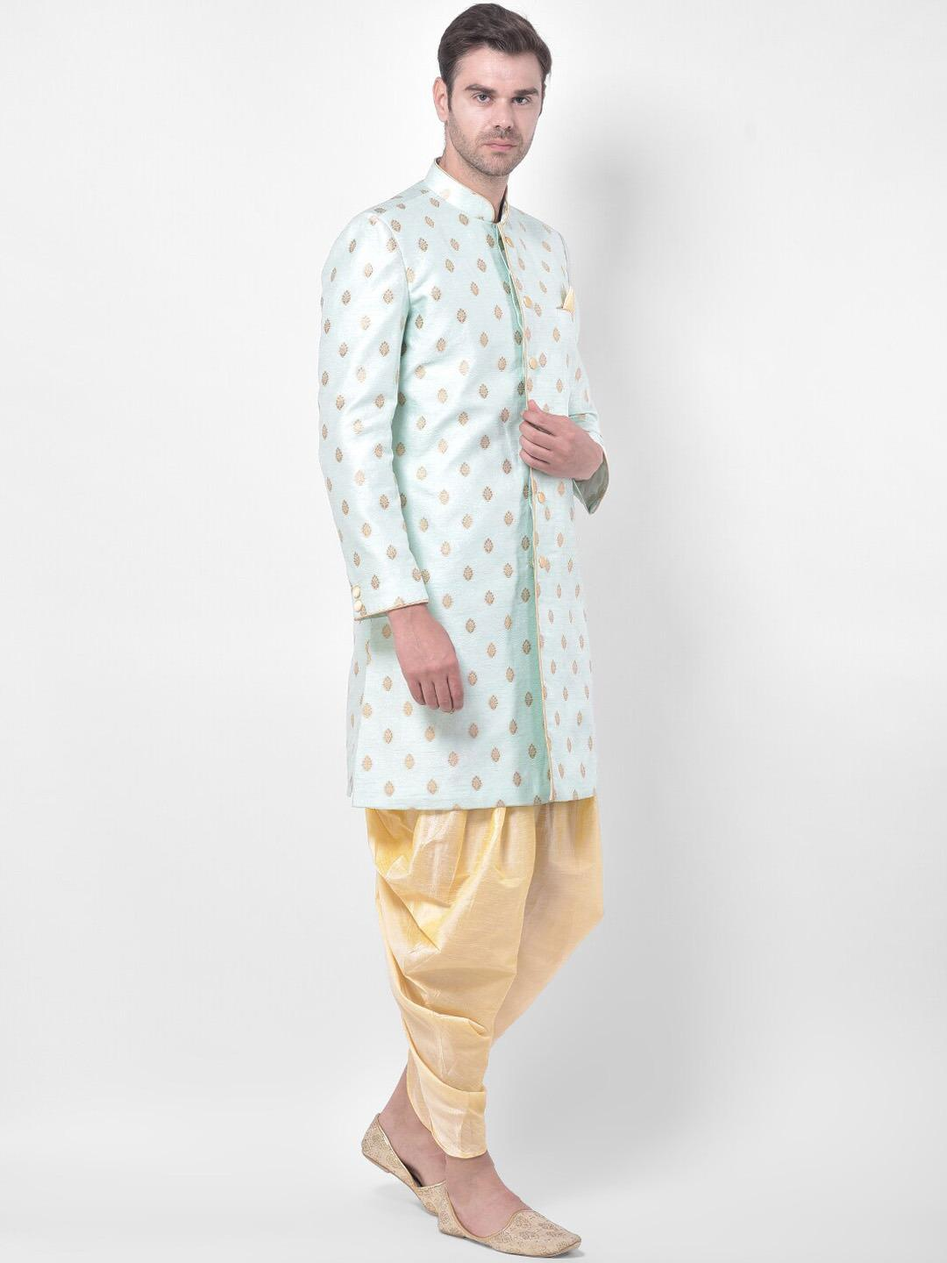Desgin sherwani: (312, 157, 616, 820)
